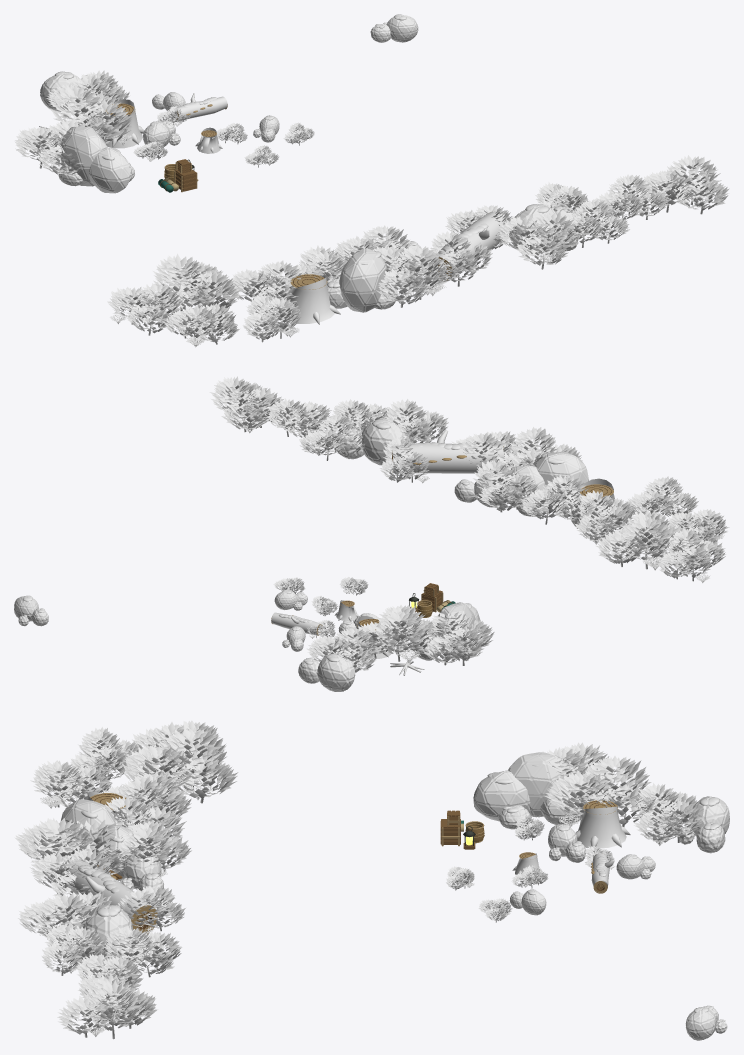
File: SM_DF_Explorer_1_0_Macro.fbx
The picture shows the model from 3 angles, top to bottom: view 1: azimuth 30°, elevation 25°; view 2: azimuth 150°, elevation 25°; view 3: azimuth 270°, elevation 25°; orthographic projection. The views are drawn at different scales.
Parts seen in each view (by area): view 1: SM_DF_Explorer_1_0_Macro; view 2: SM_DF_Explorer_1_0_Macro; view 3: SM_DF_Explorer_1_0_Macro.
Part boxes in pixels (bbox=[...]): SM_DF_Explorer_1_0_Macro: bbox=[14, 14, 729, 347]; SM_DF_Explorer_1_0_Macro: bbox=[14, 376, 729, 691]; SM_DF_Explorer_1_0_Macro: bbox=[14, 720, 729, 1040].
Size of the model in its own units: 3004 by 2846 by 338.
